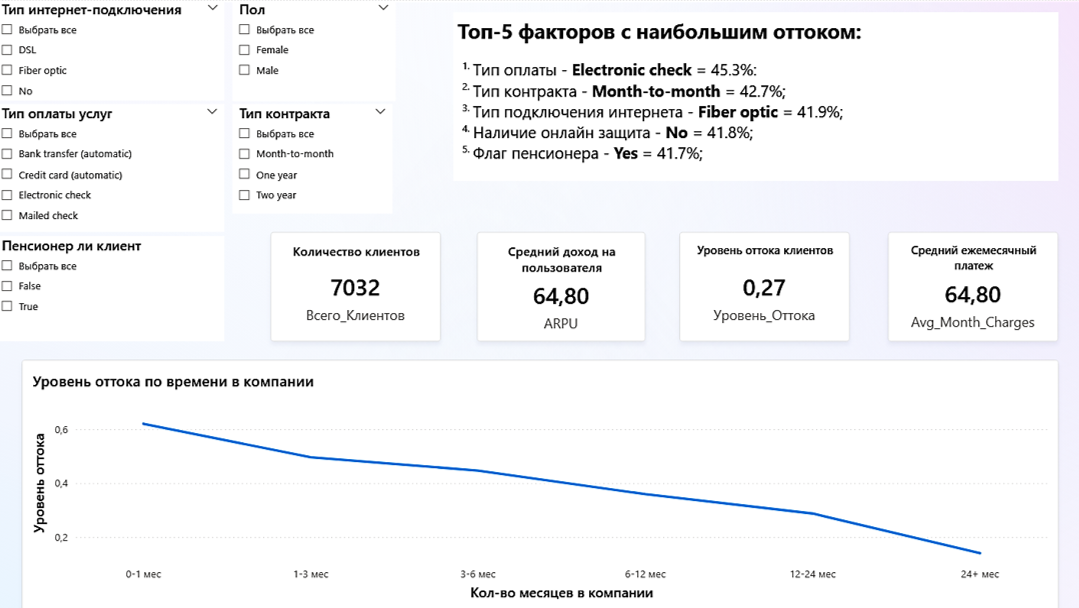

The dashboard page shown, as its layout file describes it:
{"tool":"powerbi","page":{"name":"Главная","canvas":[1280,720],"ordinal":0},"visuals":[{"type":"card","fields":{"Values":["Telcom.Всего_Клиентов"]},"box":[371.2,272.7,199.8,109.3],"z":0},{"type":"card","fields":{"Values":["Telcom.ARPU"]},"box":[611.5,272.7,198.4,109.3],"z":1},{"type":"card","fields":{"Values":["Telcom.Уровень_Оттока"]},"box":[842.3,272.7,199.8,109.3],"z":2},{"type":"card","fields":{"Values":["Telcom.AvgMonth"]},"box":[1069.1,272.7,199.8,109.3],"z":3},{"type":"lineChart","title":"Уровень оттока по времени в компании","fields":{"Category":["Telcom.TenureGroup"],"Y":["Telcom.Уровень_Оттока"]},"box":[45.9,423.9,1187.9,295.6],"z":4},{"type":"slicer","fields":{"Values":["Telcom.InternetService"]},"box":[0,0,270,118.8],"z":5},{"type":"slicer","fields":{"Values":["Telcom.Contract"]},"box":[0,282.1,187.6,129.6],"z":6},{"type":"slicer","fields":{"Values":["Telcom.PaymentMethod"]},"box":[0,122.8,244.3,149.8],"z":7},{"type":"slicer","fields":{"Values":["Telcom.gender"]},"box":[279.4,0,206.5,118.8],"z":8},{"type":"slicer","fields":{"Values":["Telcom.SeniorCitizen"]},"box":[256.5,122.8,229.5,98.5],"z":9},{"type":"textbox","box":[538.6,14.8,711.4,198.4],"z":11}]}

Visuals, with their boxes in screenshot pixels (x1, y1, x2, y2), scaled from the page's 1280x720 canvas onto the 1079x608 screenshot:
card - Telcom.Всего_Клиентов: pyautogui.locateOnScreen(313, 230, 481, 323)
card - Telcom.ARPU: pyautogui.locateOnScreen(515, 230, 683, 323)
card - Telcom.Уровень_Оттока: pyautogui.locateOnScreen(710, 230, 878, 323)
card - Telcom.AvgMonth: pyautogui.locateOnScreen(901, 230, 1070, 323)
"Уровень оттока по времени в компании" lineChart: pyautogui.locateOnScreen(39, 358, 1040, 607)
slicer - Telcom.InternetService: pyautogui.locateOnScreen(0, 0, 228, 100)
slicer - Telcom.Contract: pyautogui.locateOnScreen(0, 238, 158, 348)
slicer - Telcom.PaymentMethod: pyautogui.locateOnScreen(0, 104, 206, 230)
slicer - Telcom.gender: pyautogui.locateOnScreen(236, 0, 410, 100)
slicer - Telcom.SeniorCitizen: pyautogui.locateOnScreen(216, 104, 410, 187)
textbox: pyautogui.locateOnScreen(454, 12, 1054, 180)
